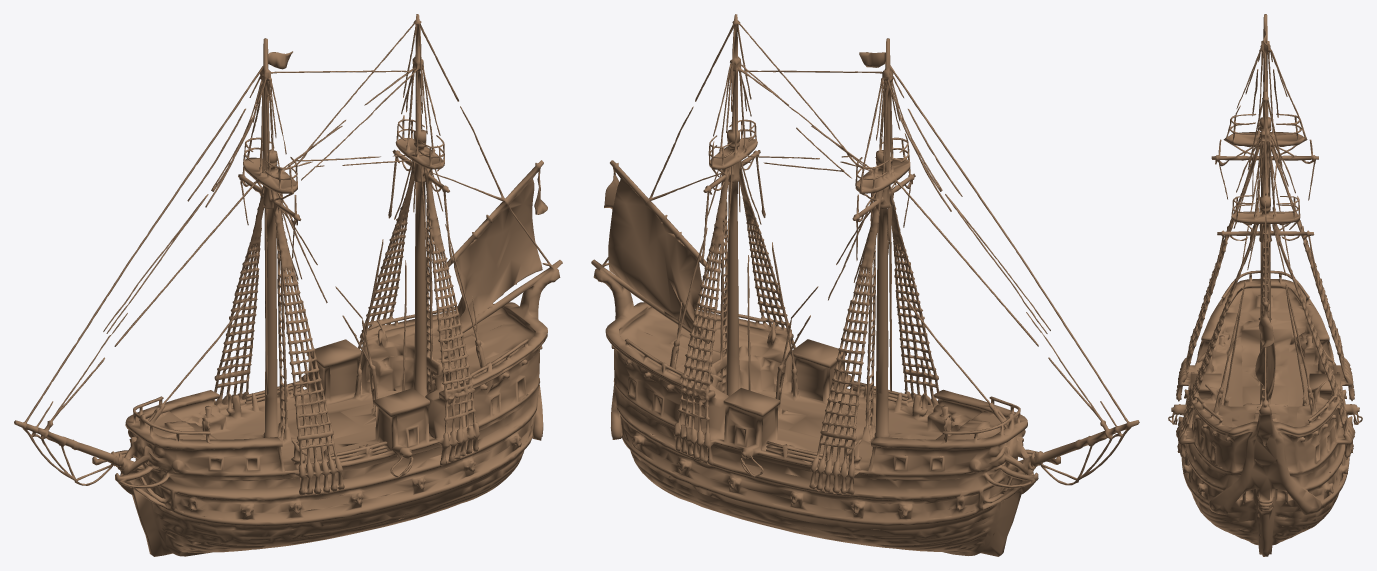
File: brigantine_lod0.glb
The picture shows the model from 3 angles, left to right: view 1: azimuth 30°, elevation 25°; view 2: azimuth 150°, elevation 25°; view 3: azimuth 270°, elevation 25°; orthographic projection. The views are drawn at different scales.
Parts seen in each view (by area): view 1: BrigantineLOD; view 2: BrigantineLOD; view 3: BrigantineLOD.
Boxes of the visible parts, x1,y1,x2,y2 form: BrigantineLOD: (14, 14, 562, 556); BrigantineLOD: (591, 14, 1139, 556); BrigantineLOD: (1168, 14, 1362, 556).
Size of the model in its own units: 6.28 by 5.45 by 2.18.
